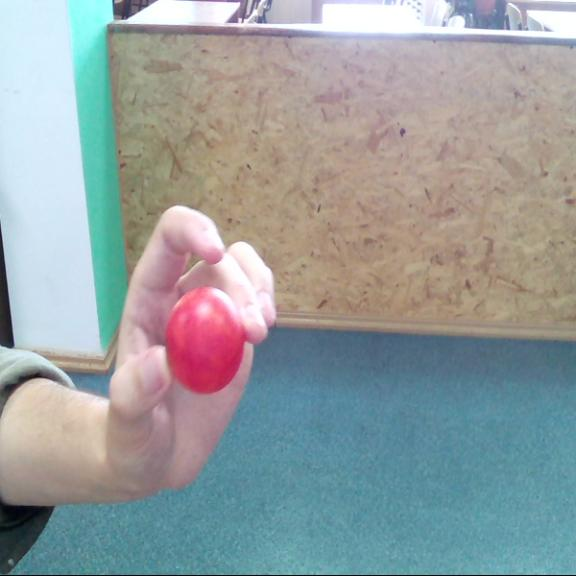ball: (164, 286, 250, 392)
